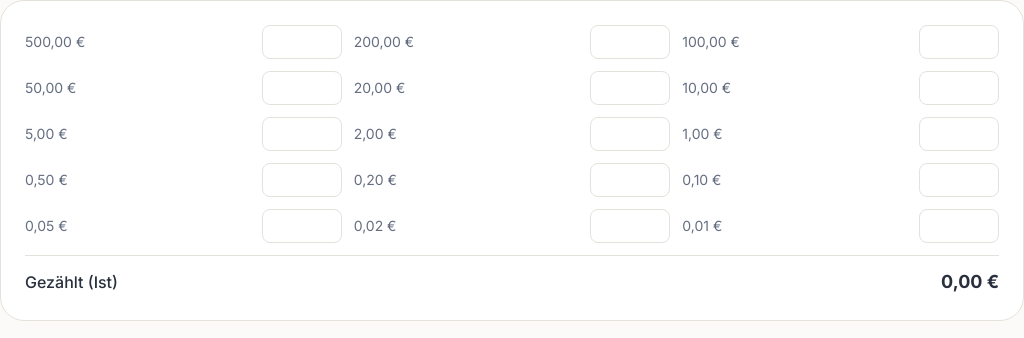
Test: CashCounter › reports the live total when a denomination count changes
Type "2" into the number field named "anzahl 5,00 €" at point(302, 134), box [262,117,342,151]
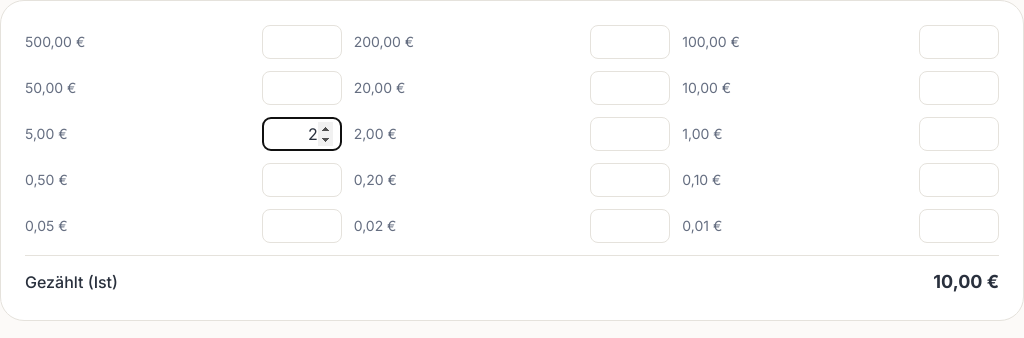
Check: the text "Gezählt (Ist) 10,00 €" is shown, box [25,255,999,296]
